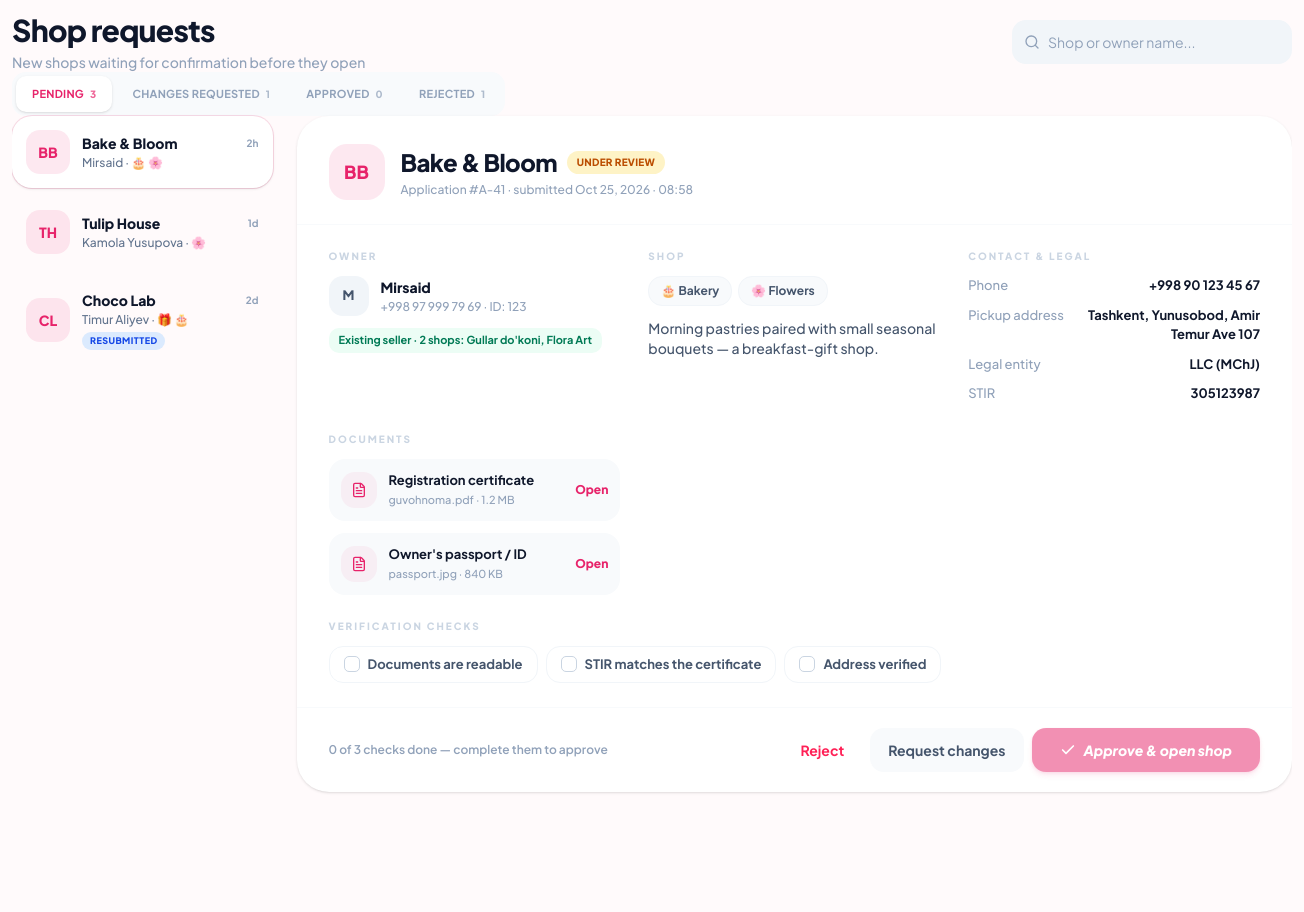
Test case: ShopRequestsPage › shows an empty state when the search matches nothing
Type "zzz" into the search field named "Search shop requests". click: (1152, 42)
box: [1012, 20, 1292, 64]
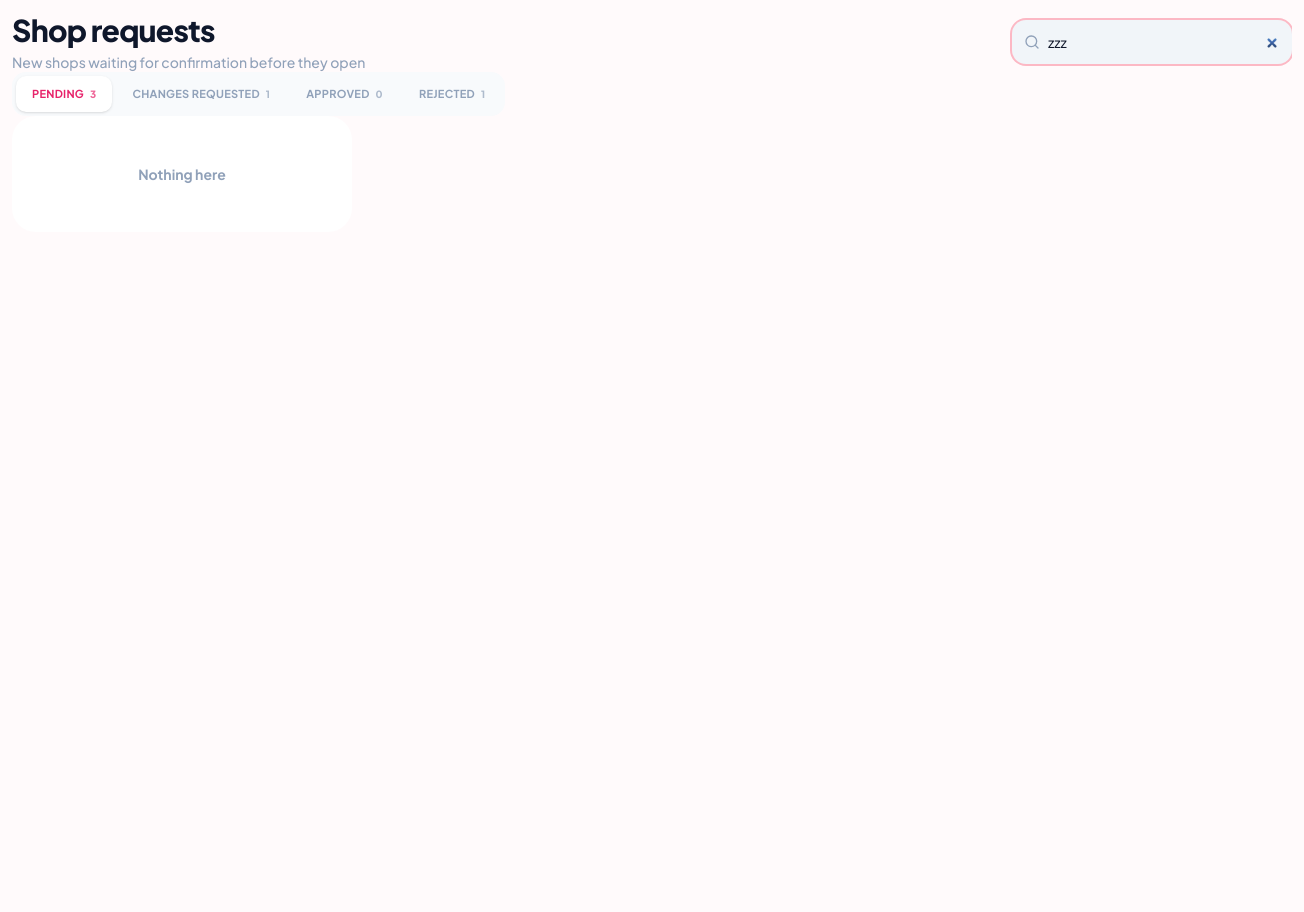
Check: the text "Nothing here" is shown, box [12, 116, 352, 232]
Check: the text "Application" is gone
